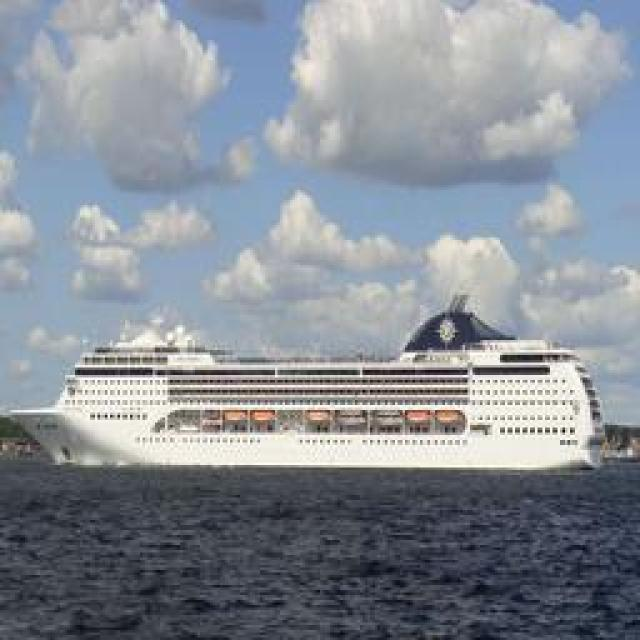CIV_Ship: (15, 324, 618, 478)
